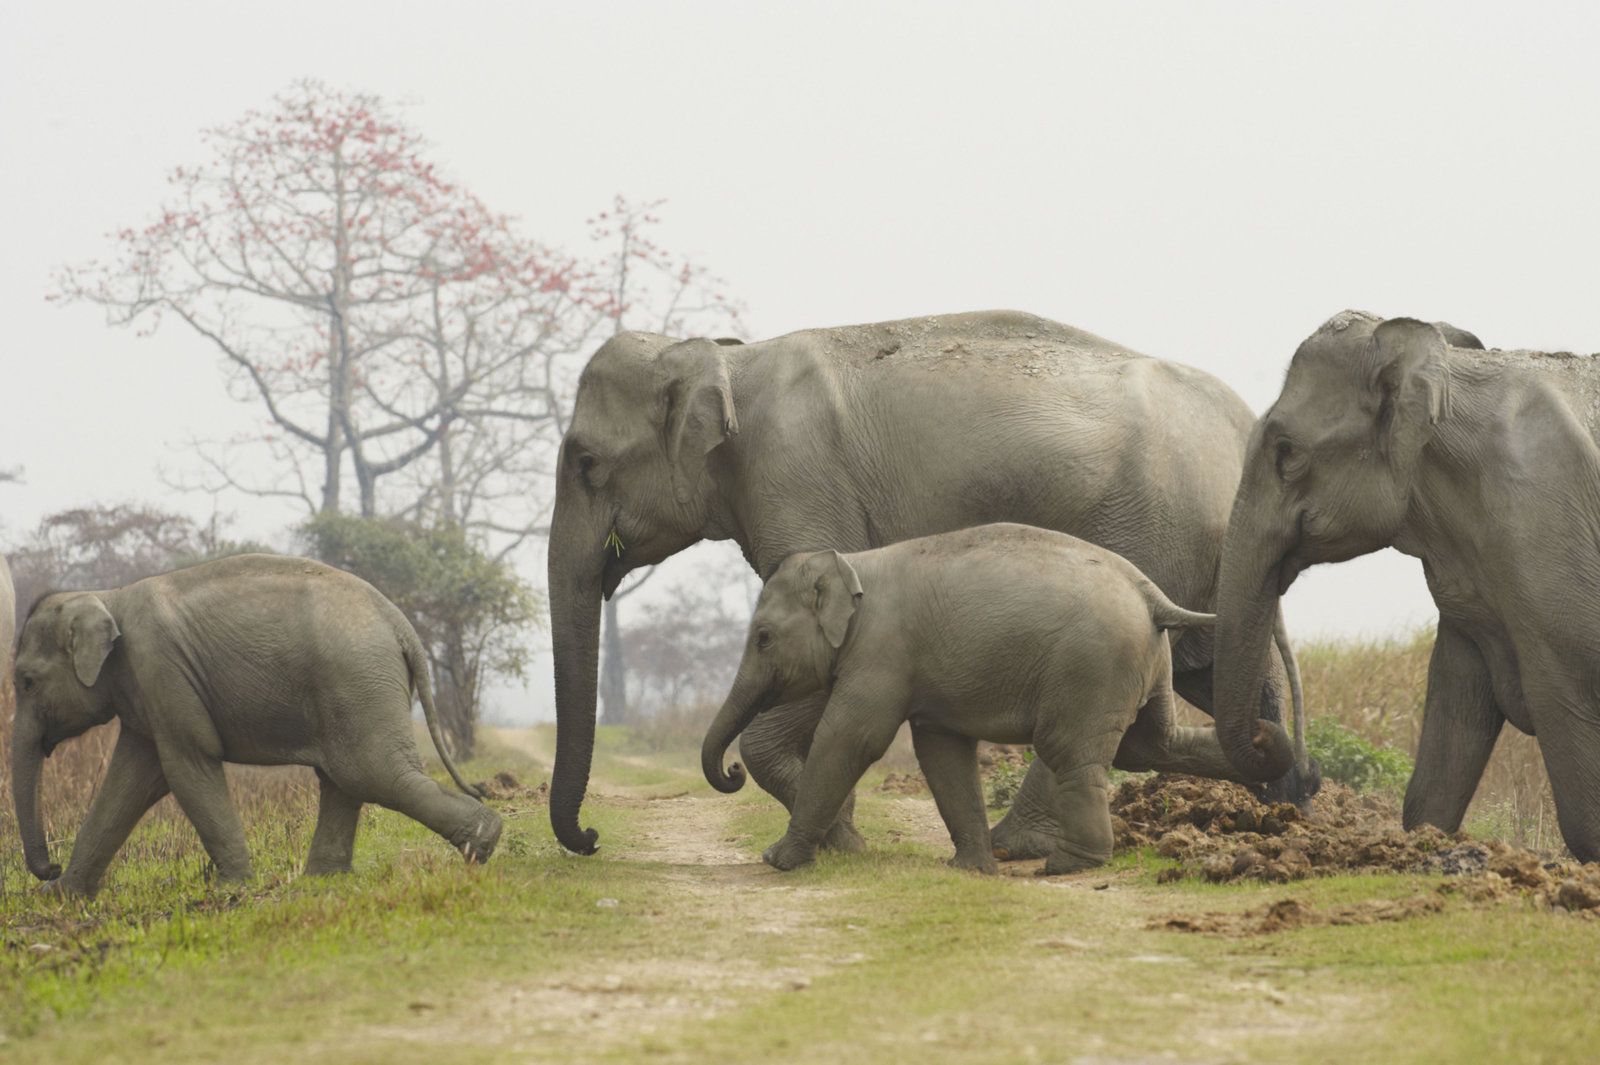Indian Elephant: (470, 257, 1312, 878), (1190, 263, 1600, 886), (676, 505, 1204, 915), (15, 540, 511, 925)
